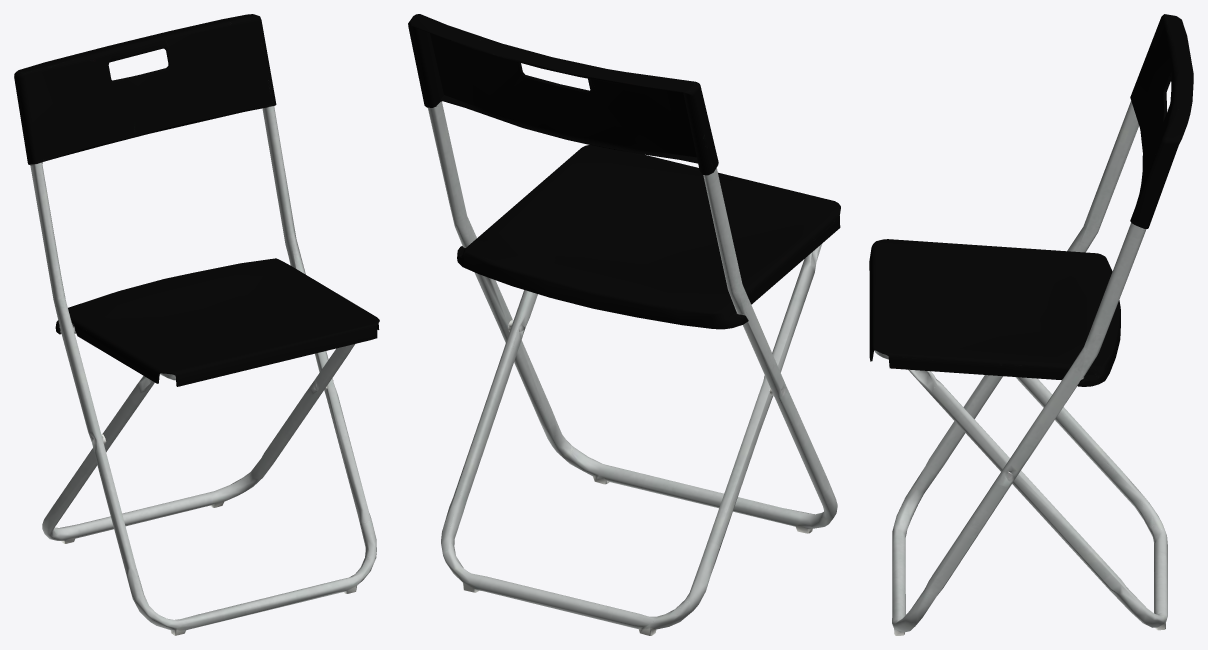
File: gunde_krzeso_skadane_00217797.glb
3 views of the same model, side by side, from view 1: azimuth 30°, elevation 25°; view 2: azimuth 150°, elevation 25°; view 3: azimuth 270°, elevation 25° (orthographic). The views are drawn at different scales.
Parts seen in each view (by area): view 1: gunde_krzeso_skadane_00217797; view 2: gunde_krzeso_skadane_00217797; view 3: gunde_krzeso_skadane_00217797.
Part boxes in pixels (box(x1,y1,x2,y2)): gunde_krzeso_skadane_00217797: box(14, 14, 379, 635); gunde_krzeso_skadane_00217797: box(408, 14, 840, 635); gunde_krzeso_skadane_00217797: box(869, 14, 1193, 635).
Bounding box in the file's own units: 0.4201 × 0.786 × 0.4495.
Materials: 1 (1 with a texture image).
